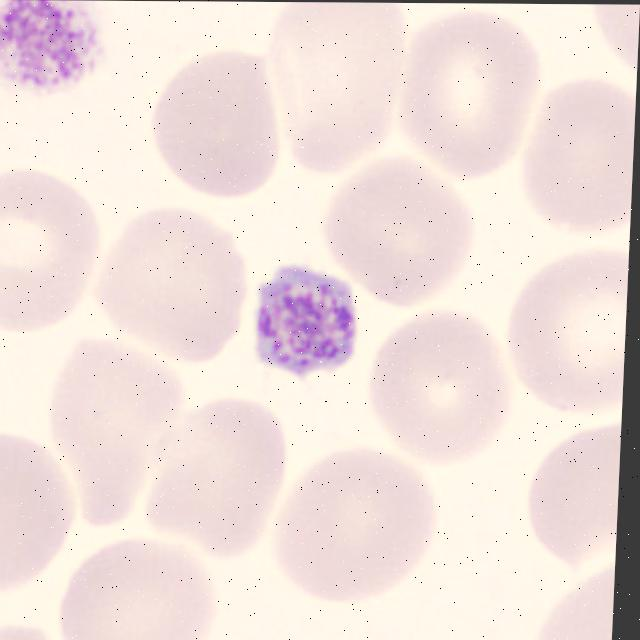platelets: (250, 257, 360, 388), (0, 0, 119, 107)
rbc: (136, 377, 297, 566), (44, 329, 182, 540), (253, 2, 413, 180), (271, 453, 452, 602), (91, 202, 248, 370), (315, 159, 484, 308), (361, 308, 522, 463), (398, 13, 547, 180), (142, 53, 294, 210), (510, 69, 637, 241), (502, 251, 629, 419), (53, 527, 233, 640), (0, 158, 107, 341), (525, 423, 621, 575), (0, 436, 78, 598), (531, 569, 615, 640), (569, 4, 640, 79), (0, 310, 26, 428), (0, 615, 62, 640)
